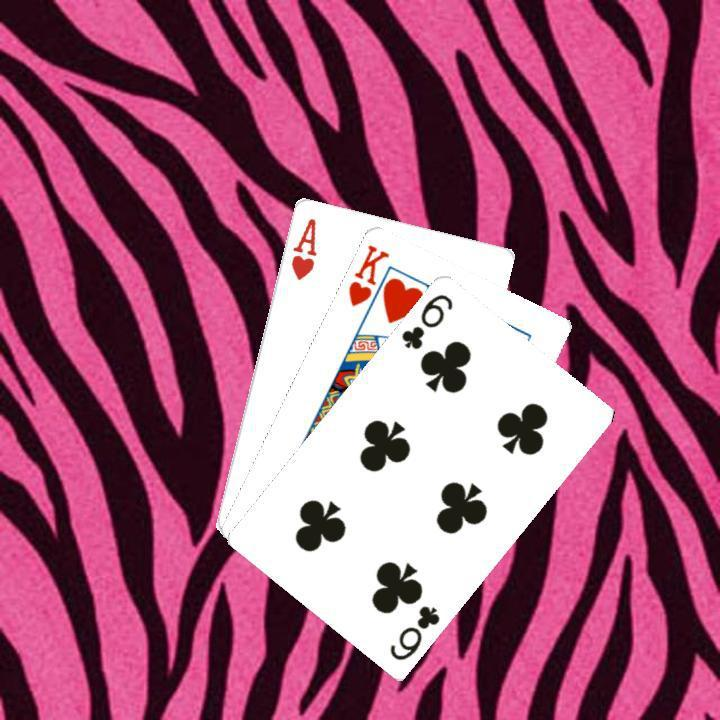6: (396, 288, 455, 351), (385, 600, 442, 662)
A: (286, 213, 319, 282)
K: (343, 239, 391, 308)
